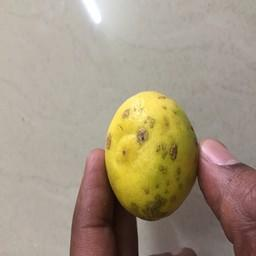Bad_lime: (104, 83, 205, 221)
